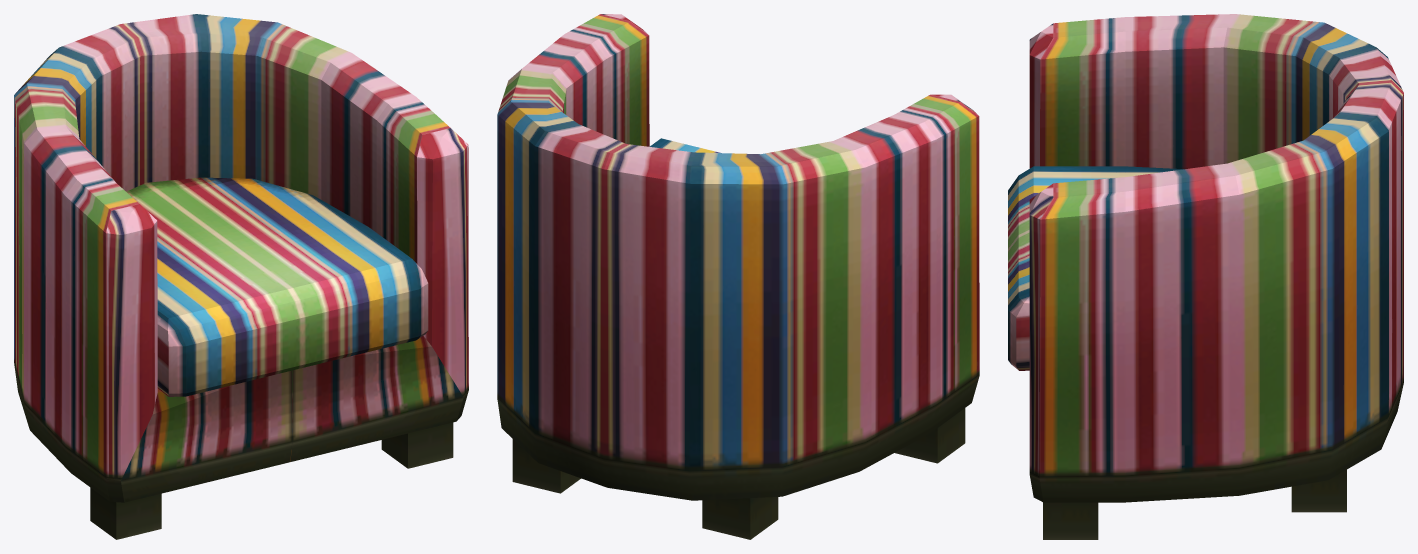
Rendered from furni_0200613.FBX.
The picture shows the model from 3 angles, left to right: view 1: azimuth 30°, elevation 25°; view 2: azimuth 150°, elevation 25°; view 3: azimuth 270°, elevation 25°; orthographic projection. The views are drawn at different scales.
Parts seen in each view (by area): view 1: furni_0200613; view 2: furni_0200613; view 3: furni_0200613.
Boxes of the visible parts, x1=… form: furni_0200613: x1=14, y1=14, x2=468, y2=539; furni_0200613: x1=497, y1=14, x2=979, y2=539; furni_0200613: x1=1008, y1=14, x2=1403, y2=539.
Bounding box in the file's own units: 80 × 74.49 × 71.76.
Materials: 1 (1 with a texture image).
